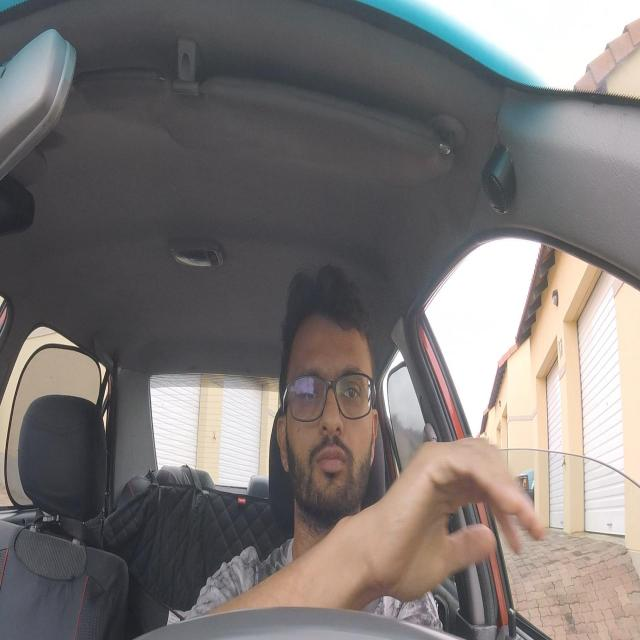open: (332, 364, 370, 412), (292, 362, 324, 412)
